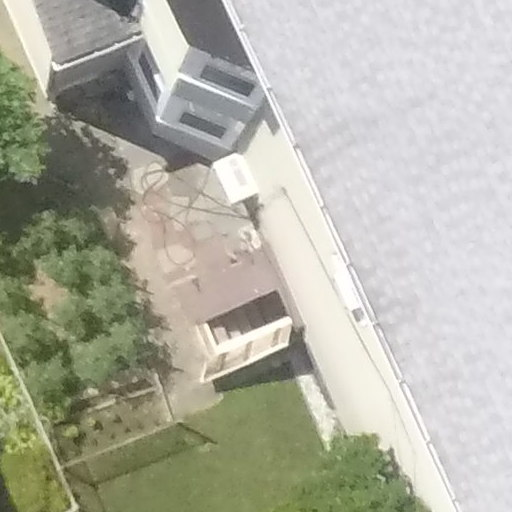flower bed: (47, 358, 165, 466)
